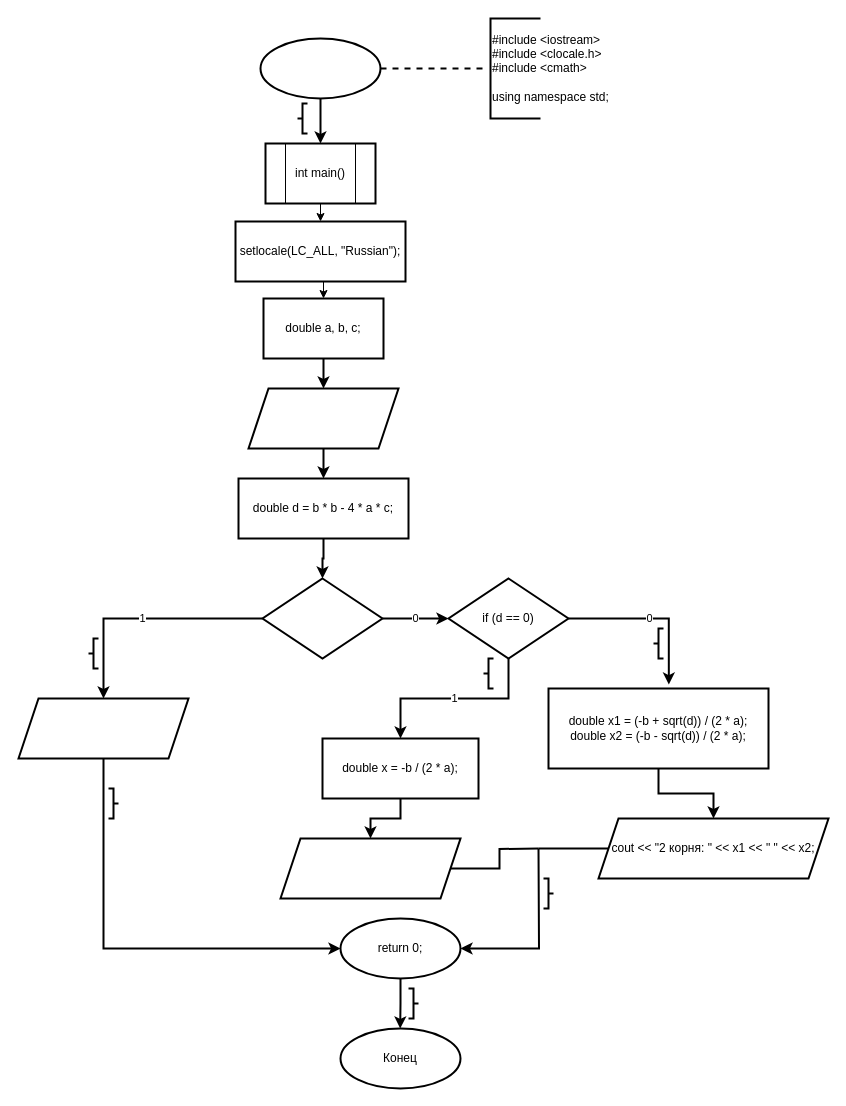
Some shapes in this 846 by 1106 pixel diagram are drawn without their labels. The centre of each missing label's shape, as x and y in pixels:
cin >> a >> b >> c;: (323,418)
cout << "1 корень: " << x;: (370,868)
cout << "Нет решений";: (103,728)
if (d < 0): (322,618)
Начало: (320,68)
